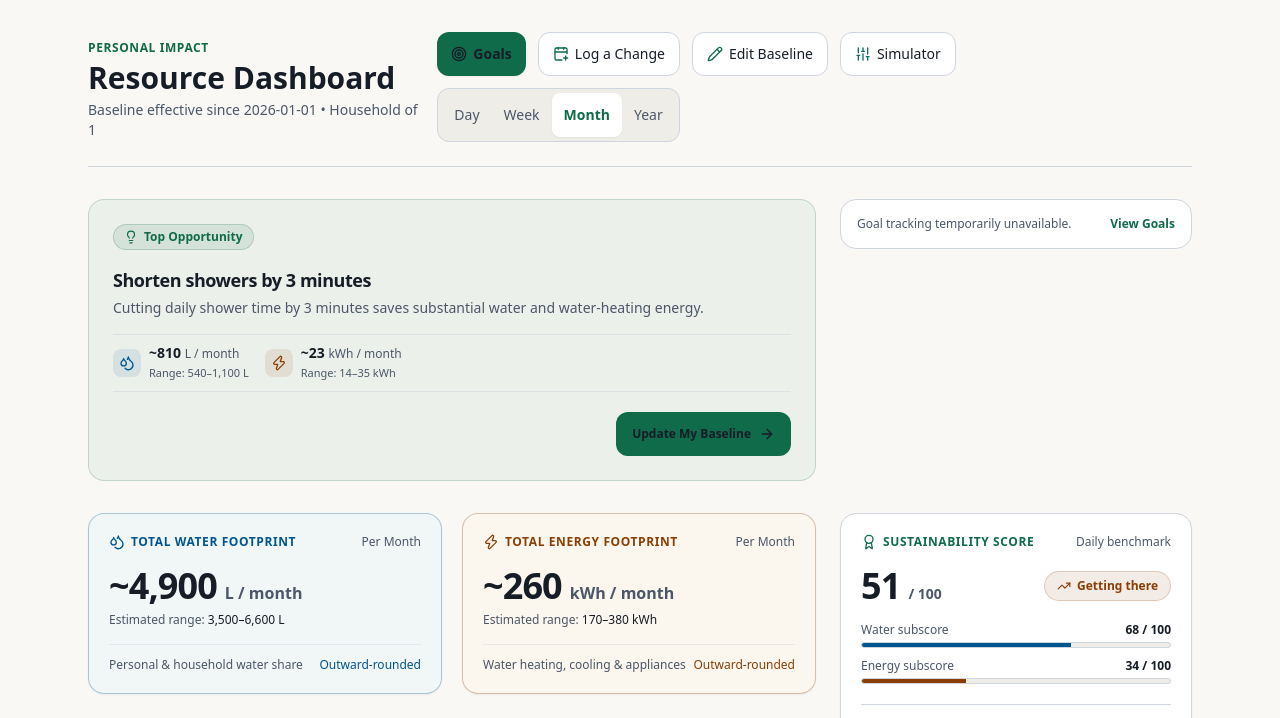
Test: DashboardPage Component › period toggle changes totals between Month and Day
Expected: the text "~4,900" is shown, [109,566,217,606]
// Switch to Day
Click the button "Day".
click(467, 115)  # box [442,93,492,137]
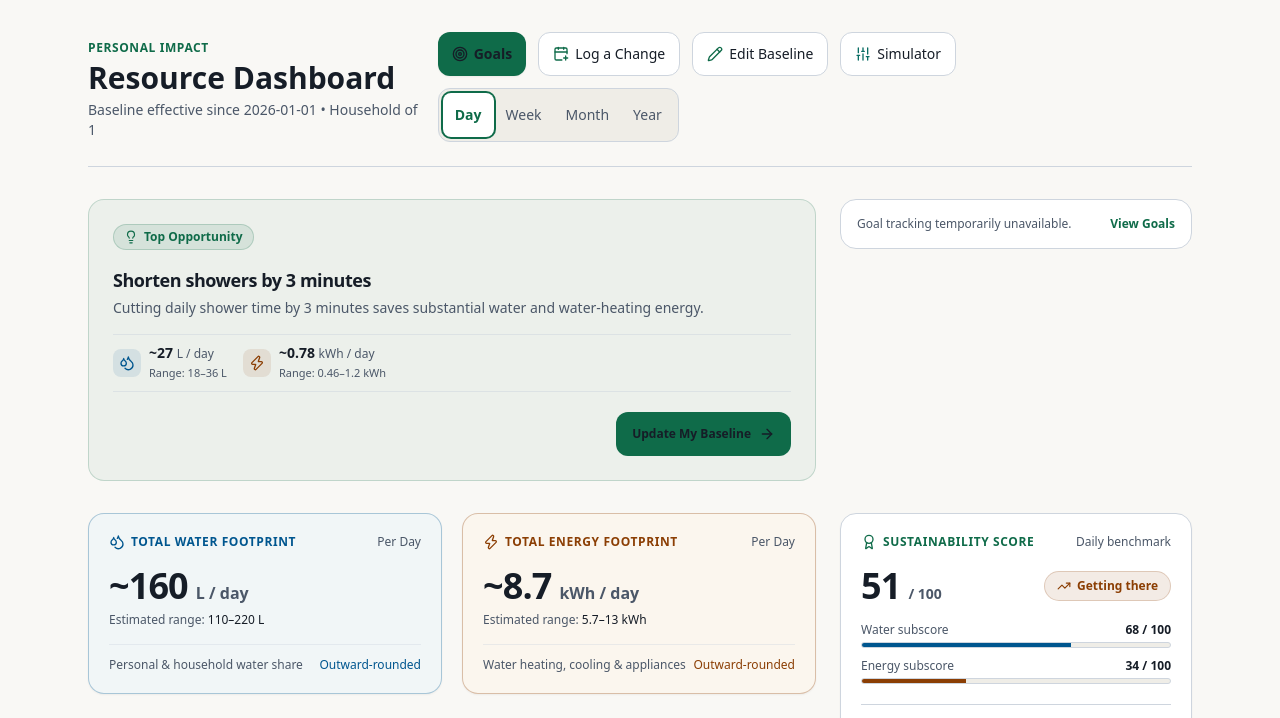
Now the text "~160" is shown, box [109,566,188,606]
Now the text "~8.7" is shown, box [483,566,552,606]
// Switch back to Month
Click the button "Month".
click(587, 115)  # box [554,93,621,137]
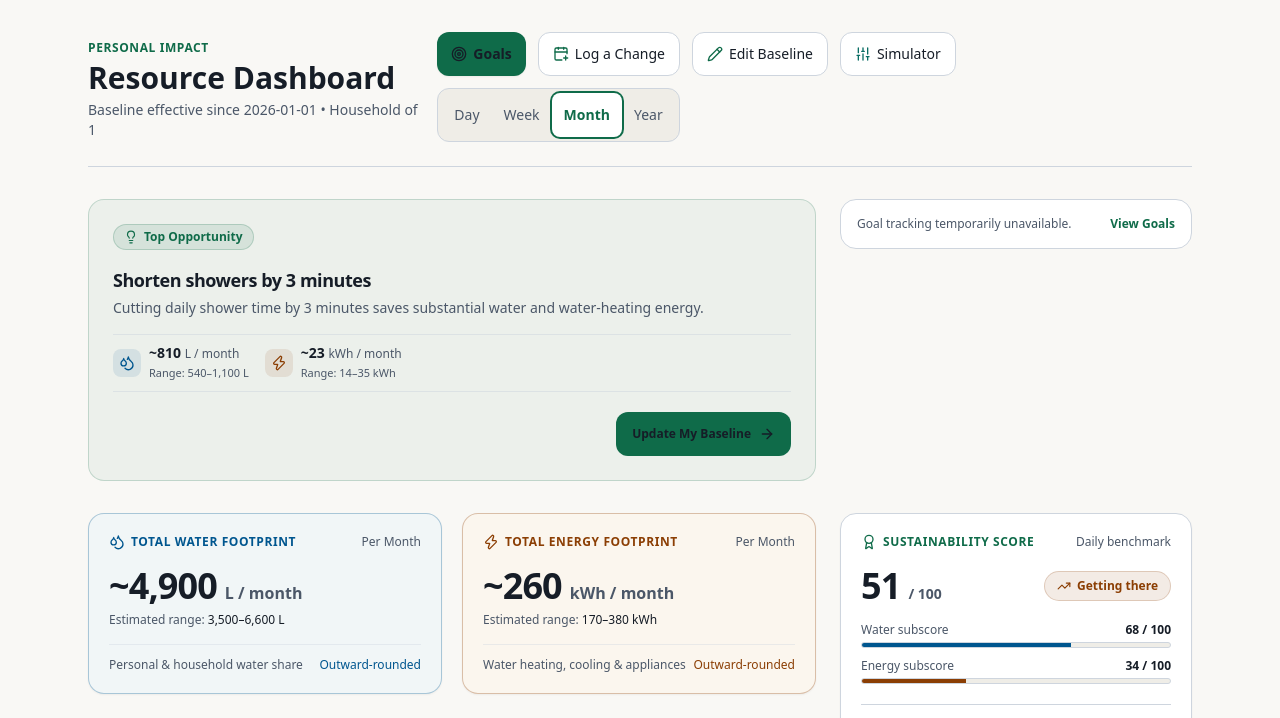
Now the text "~4,900" is shown, box [109,566,217,606]
